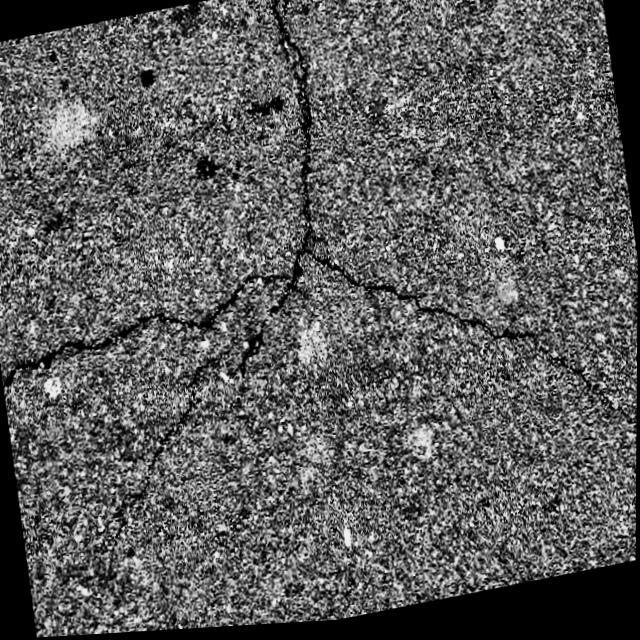Clogged Drains: (303, 233, 622, 419), (240, 0, 312, 376), (4, 292, 279, 390)
